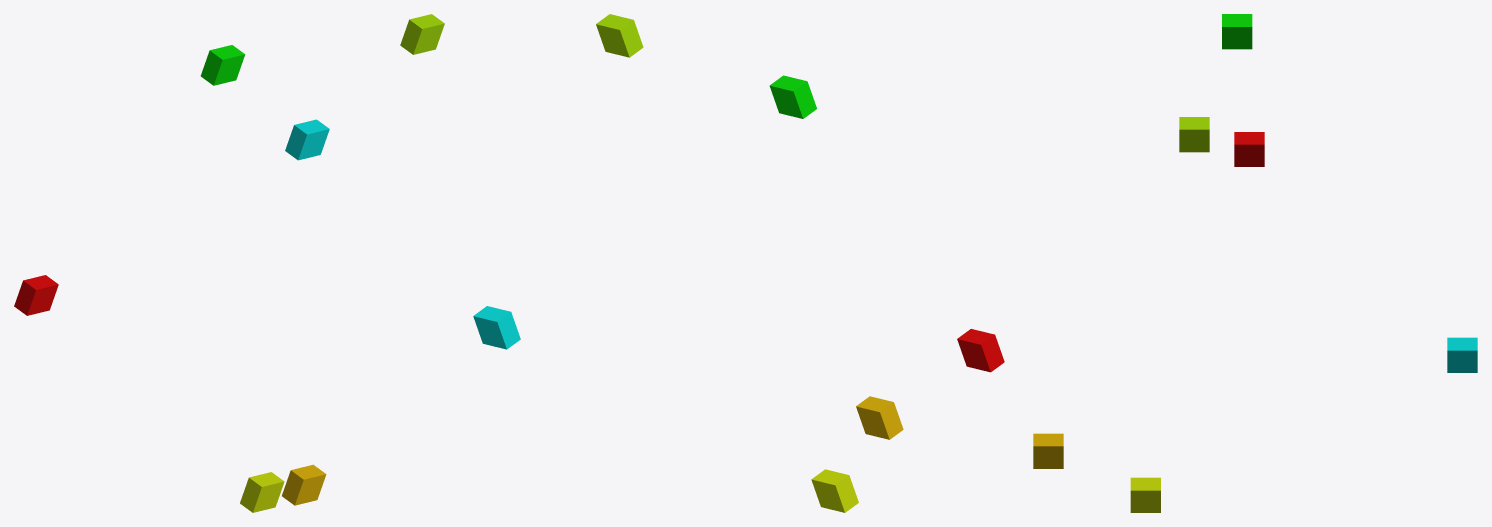
File: rhombohedrons_noncr.gltf
3 views of the same model, side by side, from view 1: azimuth 30°, elevation 25°; view 2: azimuth 150°, elevation 25°; view 3: azimuth 270°, elevation 25° (orthographic). The views are drawn at different scales.
Size of the model in its own units: 4.35 by 4.45 by 3.65.
